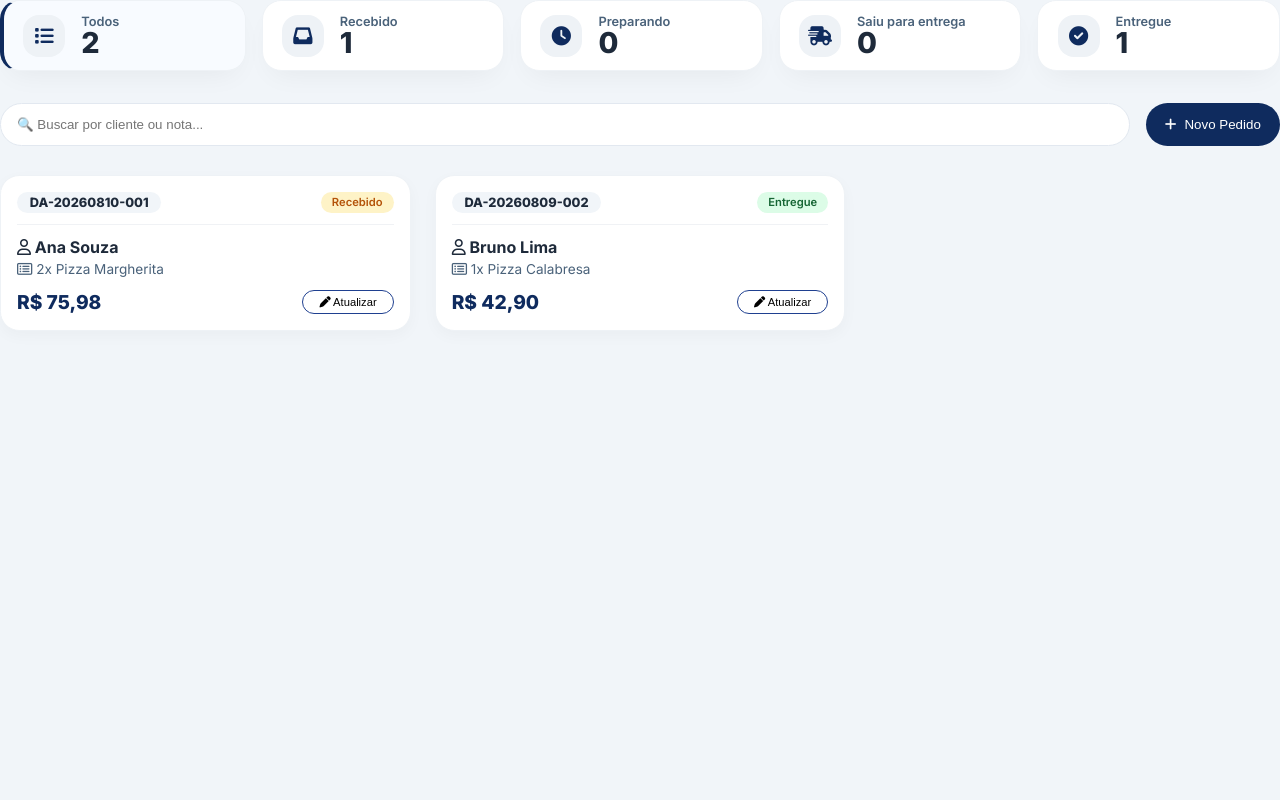
Scenario: OrdersSection (painel admin — pedidos) › novo pedido manual: sucesso fecha o modal, recarrega a lista e avisa
Check: the text "Ana Souza" is shown, box [17, 236, 118, 256]
Click the button "Novo Pedido" at (1213, 125), box [1146, 103, 1279, 146]
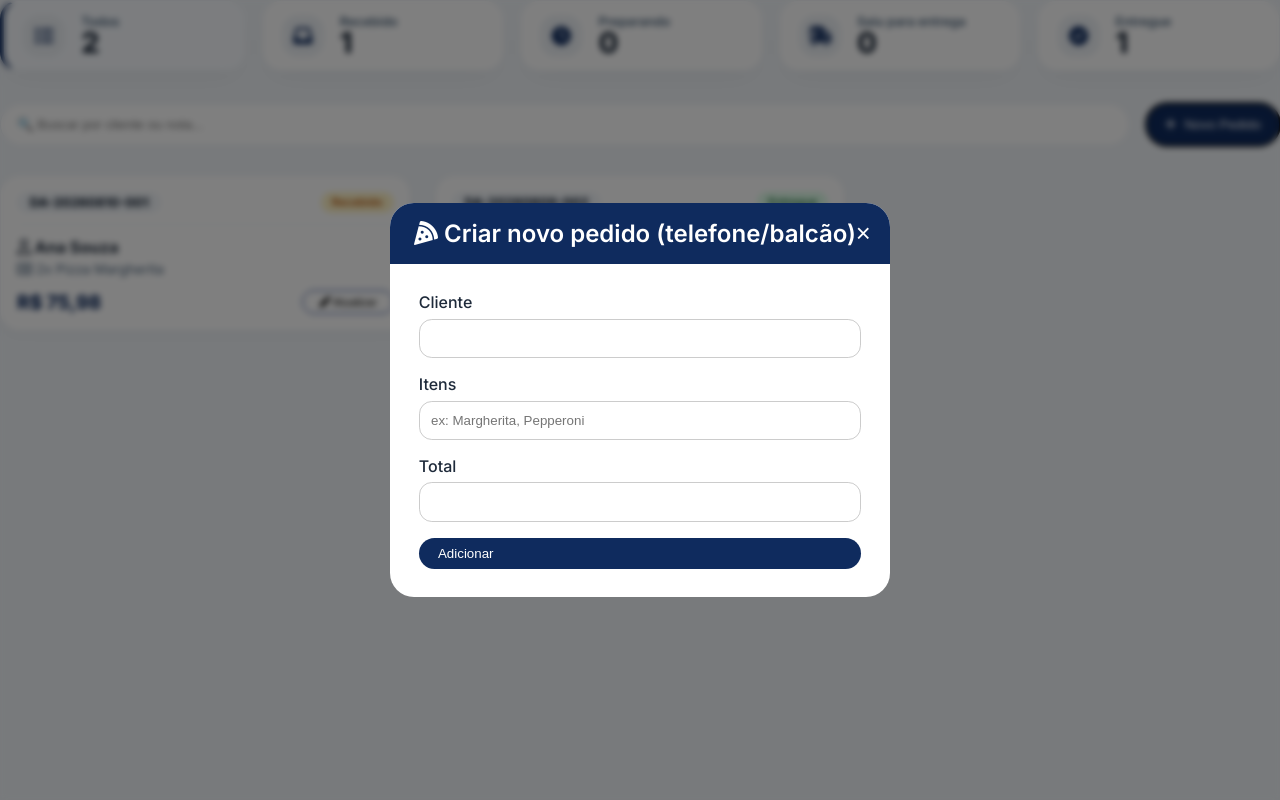
Type "Carla Nunes" into the field labelled "Cliente" at (640, 338), box [419, 319, 861, 358]
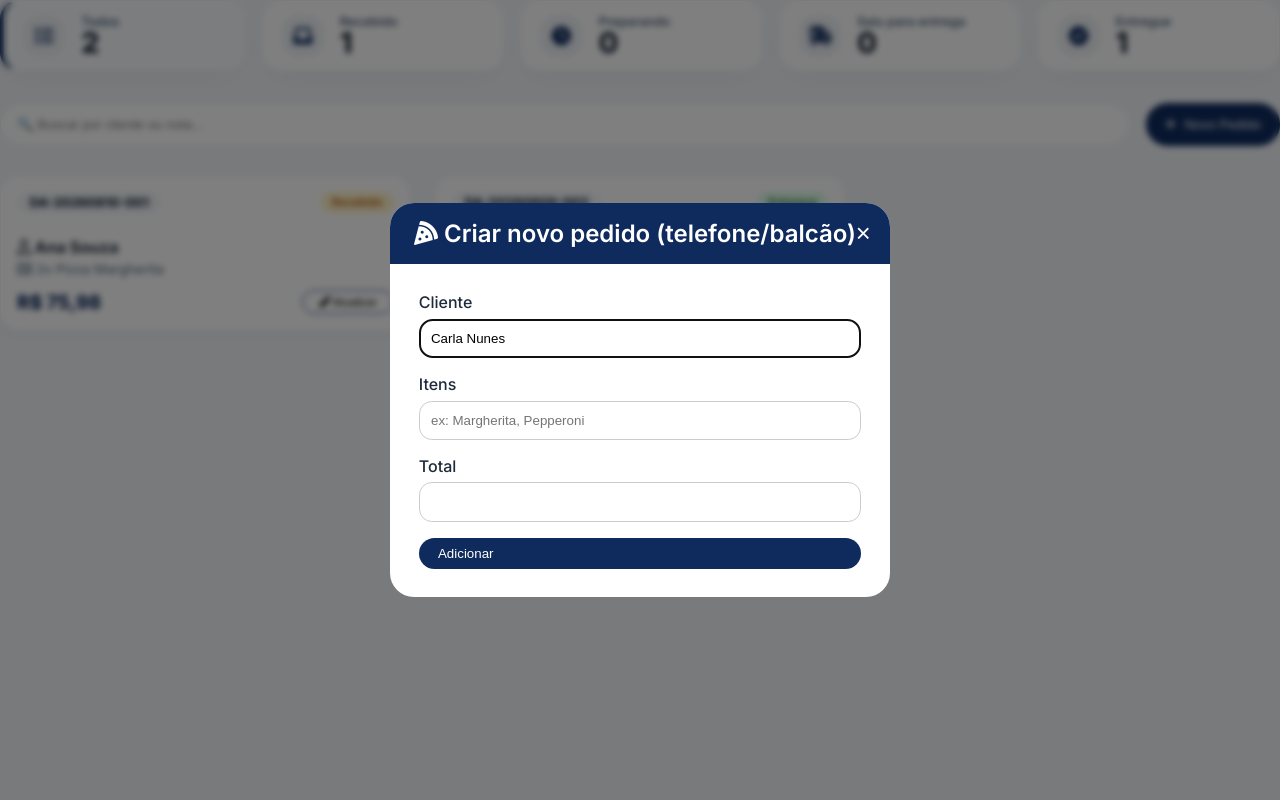
Type "Margherita, Pepperoni" into the field labelled "Itens" at (640, 420), box [419, 400, 861, 440]
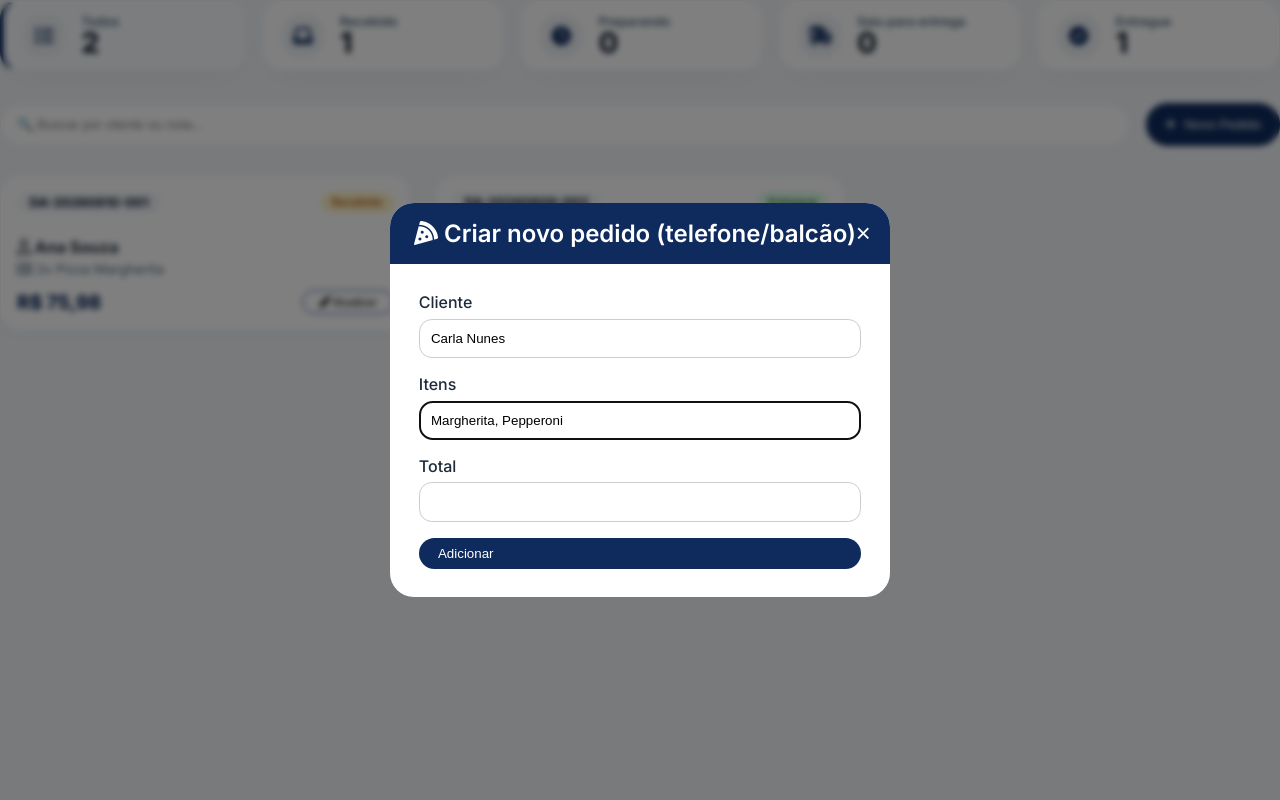
Type "89.90" into the number field labelled "Total" at (640, 502), box [419, 482, 861, 522]
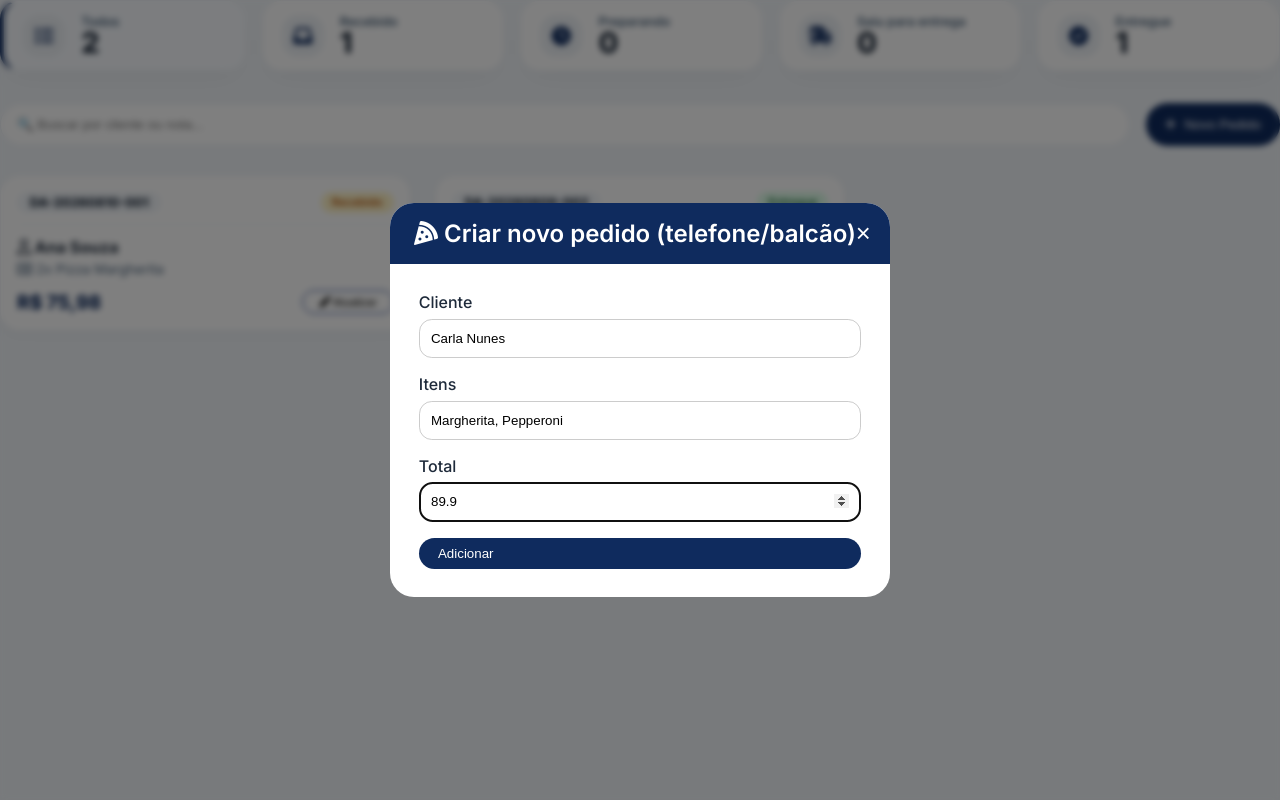
Click the button "Adicionar" at (466, 553), box [419, 538, 861, 569]
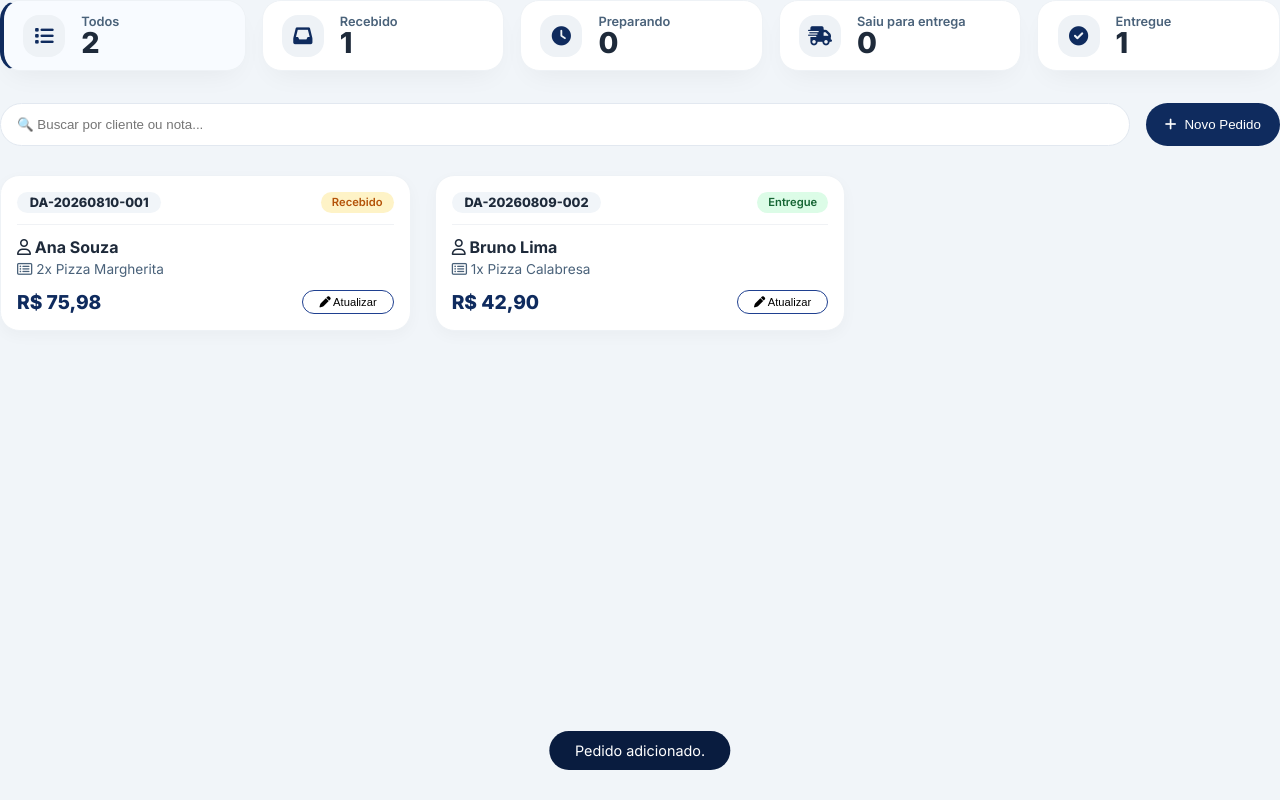
Check: the text "Pedido adicionado." is shown, box [549, 731, 731, 770]
